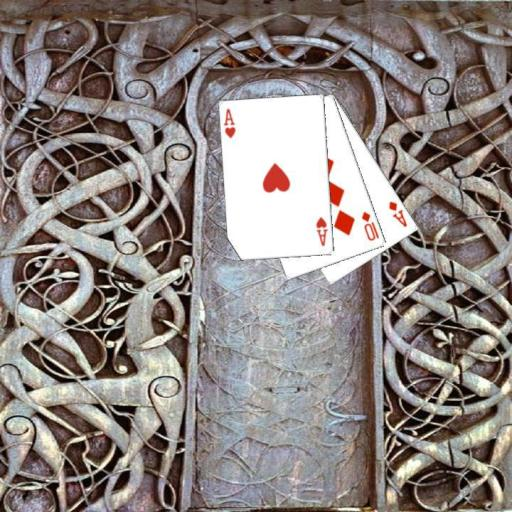10D: (359, 209, 381, 243)
AD: (386, 198, 409, 229)
AH: (220, 106, 237, 139), (314, 214, 329, 248)
